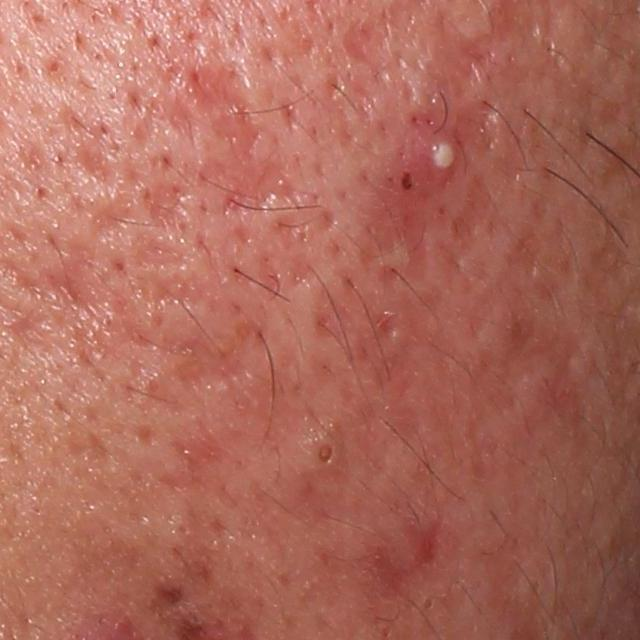atrophic_scar: (464, 314, 586, 483), (368, 515, 470, 610), (182, 57, 270, 165), (160, 317, 265, 392), (223, 162, 313, 220), (446, 172, 506, 254), (13, 265, 119, 311), (129, 274, 230, 315), (341, 14, 394, 73), (143, 180, 197, 233), (401, 211, 431, 286), (87, 197, 138, 235), (70, 140, 111, 187), (131, 235, 187, 266), (170, 95, 196, 149), (272, 212, 307, 252), (145, 583, 188, 613), (374, 310, 402, 344)
comedo: (296, 419, 345, 479)
pustule: (409, 121, 465, 193)
